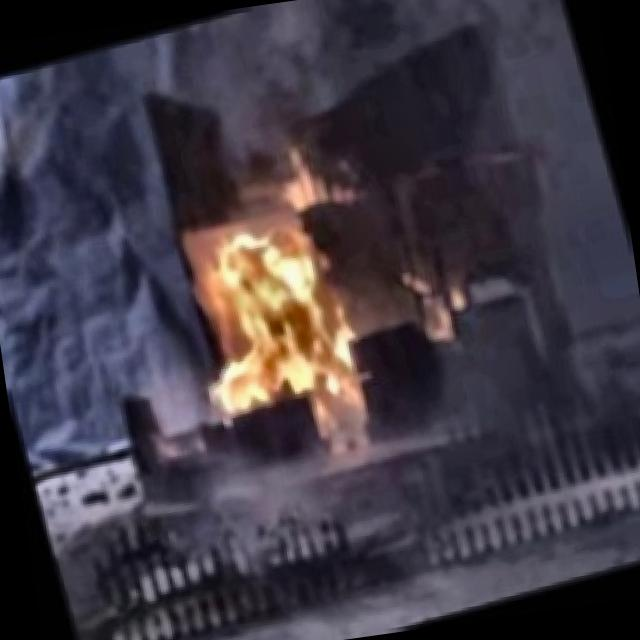fire: (157, 136, 414, 461)
